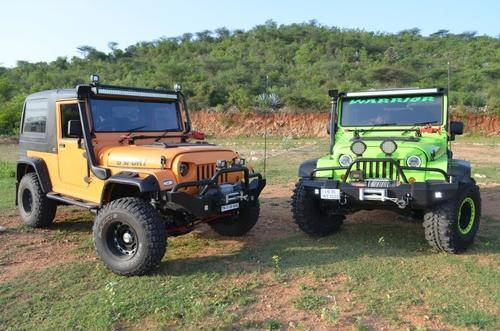Vehicle: (17, 80, 266, 270), (296, 85, 481, 254)
